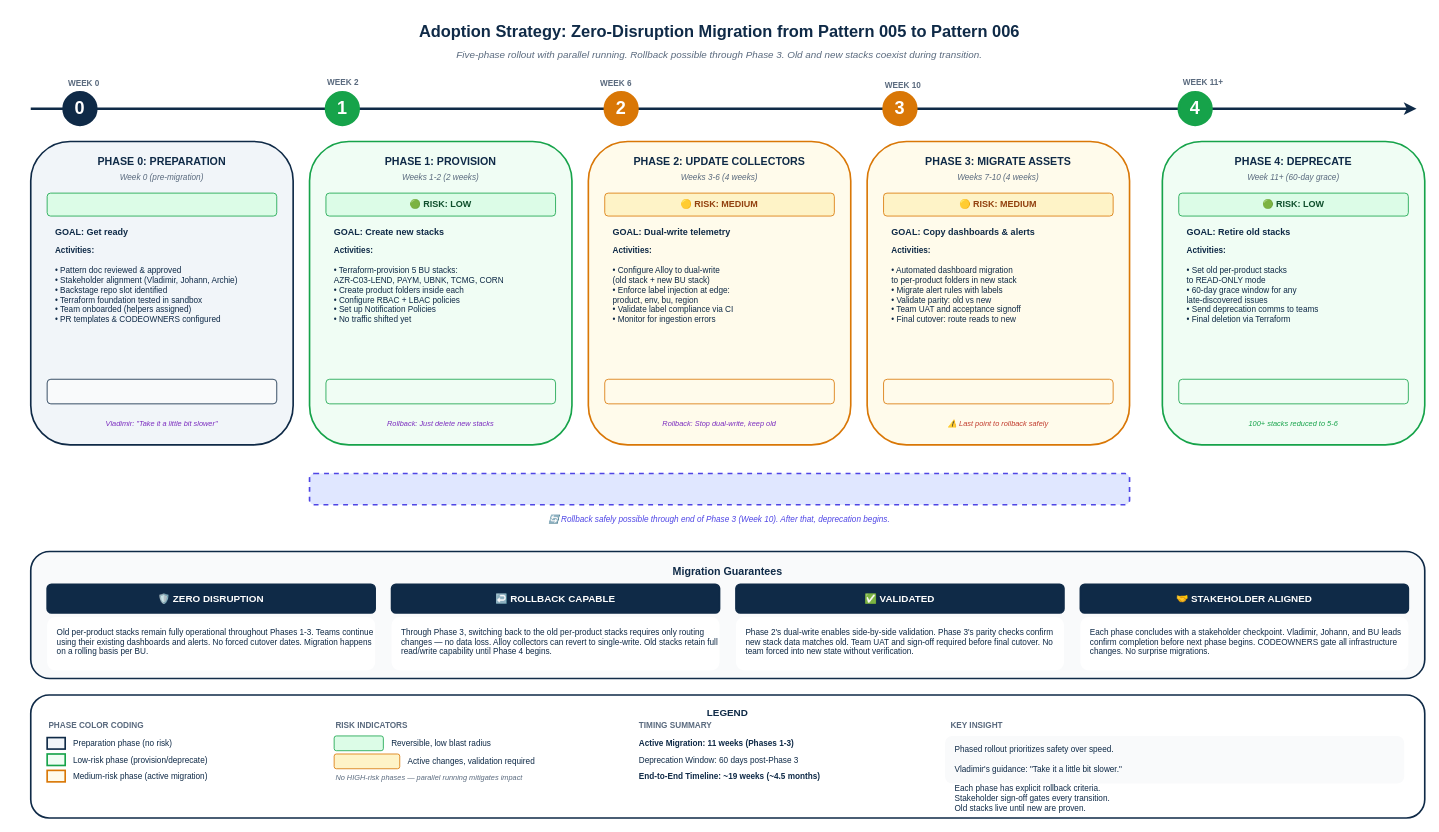
Some shapes in this 1439 by 832 pixel diagram are drawn without their labels. The centre of each missing label's shape, as x and y in pixels:
"PARALLEL RUNNING WINDOW — OLD AND NEW STACKS COEXIST" belongs at [719,488].
"✓ Output: Both stacks receive data" belongs at [719,391].
"✓ Output: New stacks fully operational" belongs at [998,391].
"✓ Output: New stacks live, empty" belongs at [440,391].
"✓ Output: Pattern 006 fully adopted" belongs at [1293,391].
"✓ Output: Ready to provision" belongs at [161,391].
"🟡 MEDIUM" belongs at [366,761].
"🟢 LOW" belongs at [358,743].
"🟢 RISK: NONE" belongs at [161,204].
